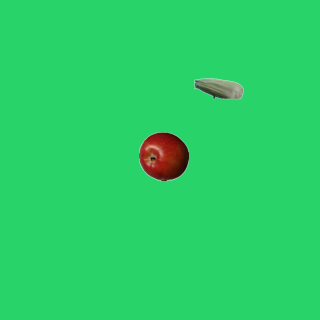Apple Braeburn: (138, 131, 188, 181)
Corn Husk: (193, 63, 243, 113)
